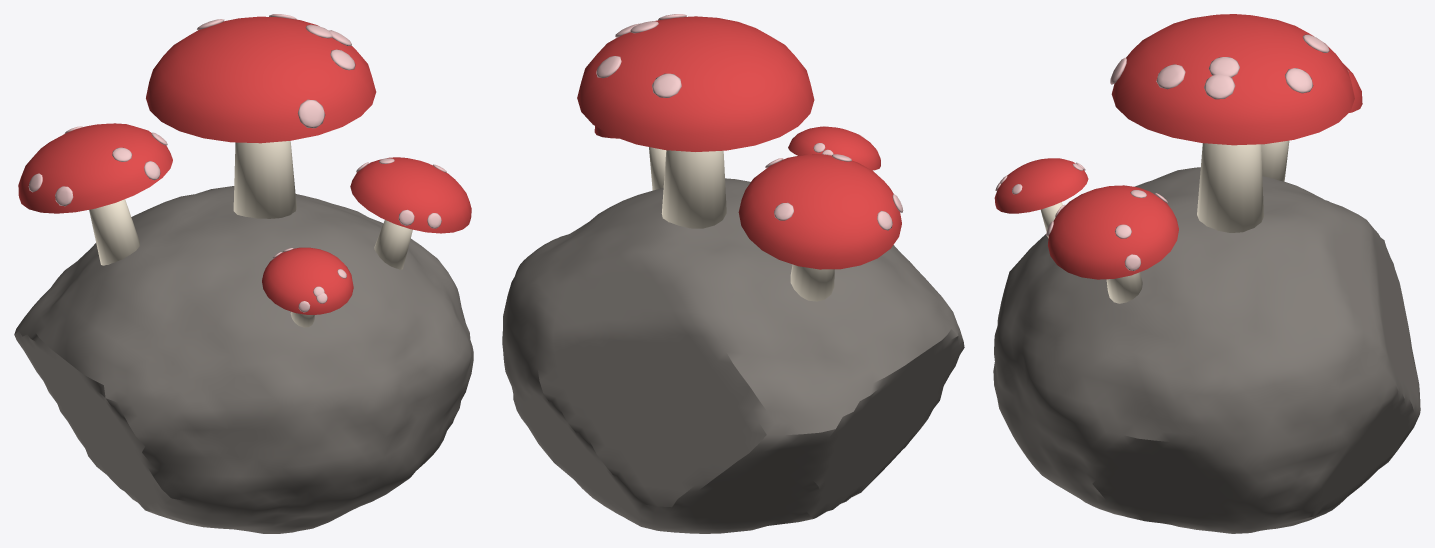
File: RockMushroom.fbx
3 renders of one model, left to right at view 1: azimuth 30°, elevation 25°; view 2: azimuth 150°, elevation 25°; view 3: azimuth 270°, elevation 25°, orthographic. The views are drawn at different scales.
Parts seen in each view (by area): view 1: RockMushroom_Stone, RockMushroom_Cap, RockMushroom_Stem, RockMushroom_Spots; view 2: RockMushroom_Stone, RockMushroom_Cap, RockMushroom_Stem, RockMushroom_Spots; view 3: RockMushroom_Stone, RockMushroom_Cap, RockMushroom_Stem, RockMushroom_Spots.
Part boxes in pixels (bbox=[...]): RockMushroom_Stone: bbox=[14, 186, 473, 533]; RockMushroom_Cap: bbox=[18, 16, 471, 314]; RockMushroom_Stem: bbox=[89, 141, 412, 327]; RockMushroom_Spots: bbox=[28, 14, 446, 312]; RockMushroom_Stone: bbox=[502, 178, 964, 533]; RockMushroom_Cap: bbox=[577, 16, 901, 269]; RockMushroom_Stem: bbox=[649, 147, 834, 301]; RockMushroom_Spots: bbox=[596, 14, 903, 230]; RockMushroom_Stone: bbox=[993, 167, 1420, 533]; RockMushroom_Cap: bbox=[994, 14, 1362, 279]; RockMushroom_Stem: bbox=[1041, 140, 1289, 303]; RockMushroom_Spots: bbox=[995, 34, 1348, 270].
Bounding box in the file's own units: 213 × 240 × 193.
